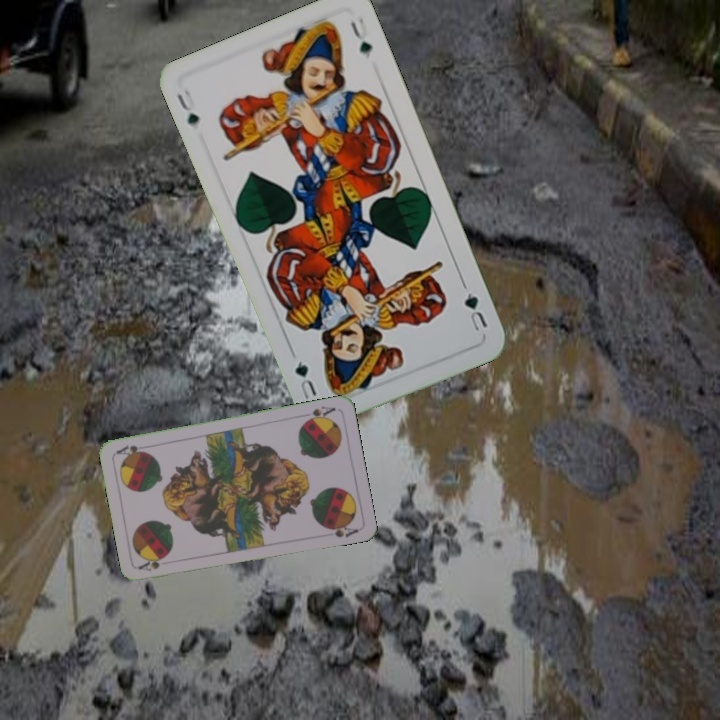GU: (458, 279, 490, 334), (173, 85, 202, 130)
SA: (298, 402, 338, 425), (135, 554, 167, 574)
